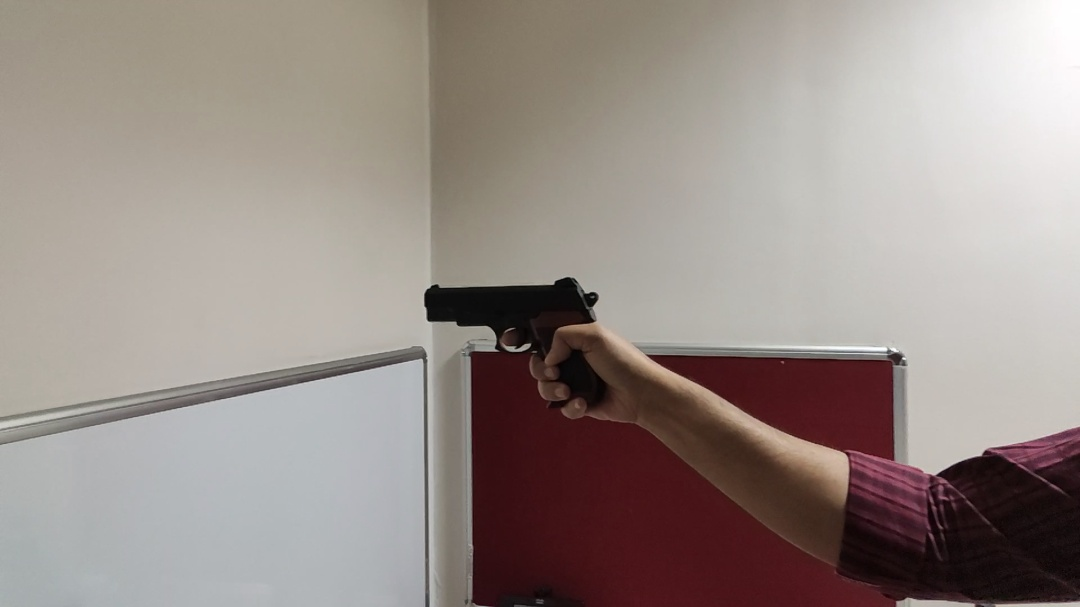gun: (422, 276, 611, 413)
